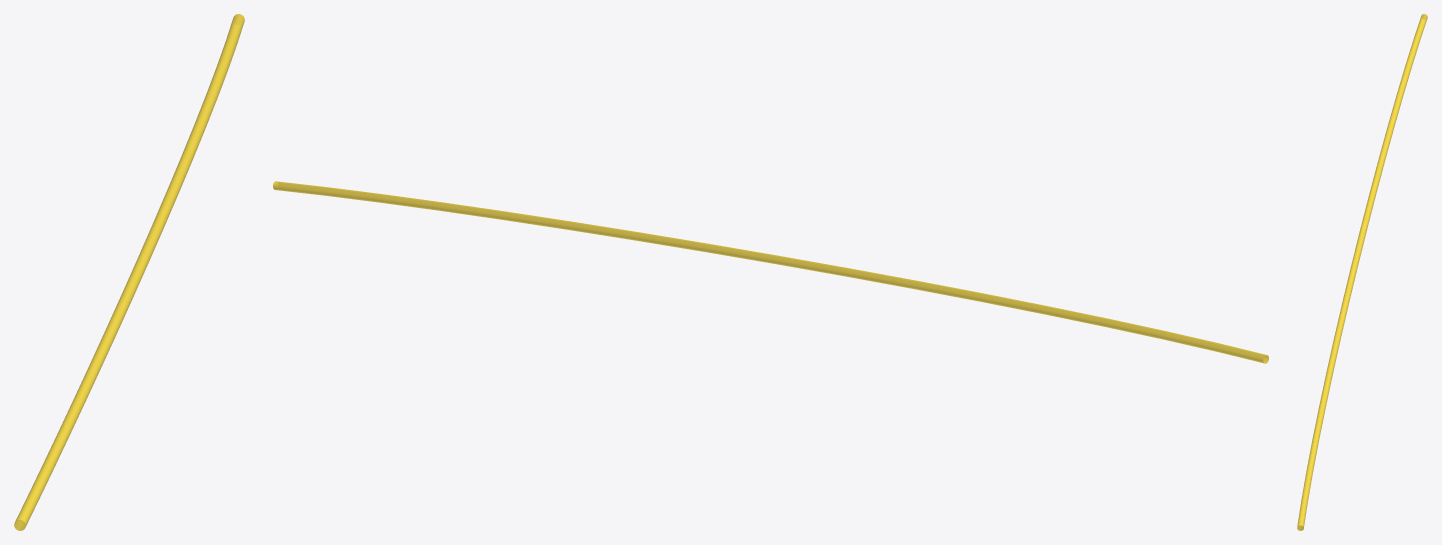
File: Event_402970704_track_23.fbx
The picture shows the model from 3 angles, left to right: view 1: azimuth 90°, elevation 25°; view 2: azimuth 150°, elevation 25°; view 3: azimuth 270°, elevation 25°; orthographic projection. The views are drawn at different scales.
Visible parts, largest first — view 1: Model; view 2: Model; view 3: Model.
Part boxes in pixels (bbox=[...]): Model: bbox=[14, 14, 244, 530]; Model: bbox=[273, 181, 1268, 363]; Model: bbox=[1297, 14, 1427, 530].
Size of the model in its own units: 5.6 by 0.7745 by 0.7747.
